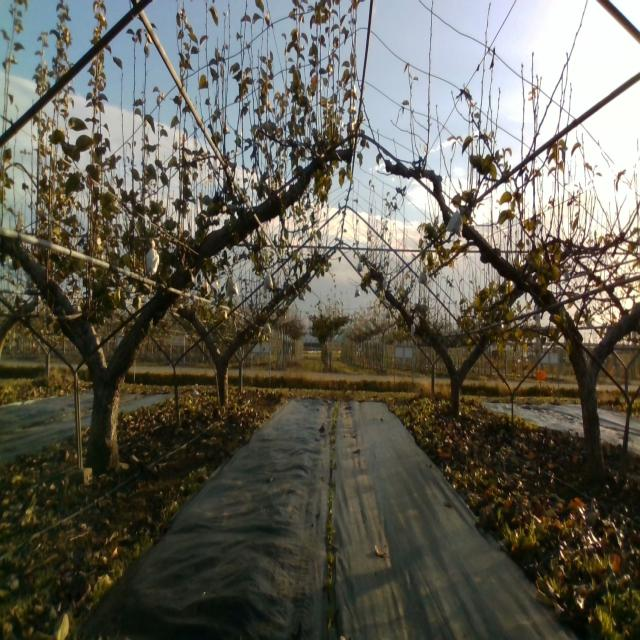pearbags: (145, 241, 161, 273), (445, 208, 463, 233), (226, 274, 240, 298), (262, 272, 275, 292)
